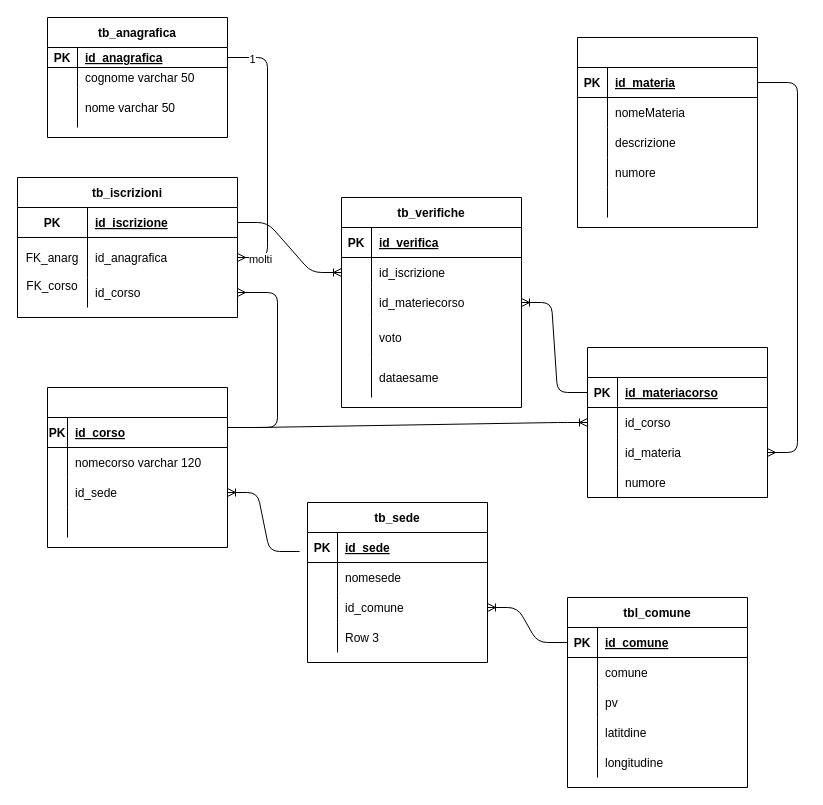
This 823x805 diagram has some shape labels left out. Here are the shapes that lost their labels. From the top down, the box of each, then its label:
(576, 36, 758, 228): tb_materie
(586, 346, 768, 498): tb_materiecorsi
(46, 386, 228, 548): tb_corsi
